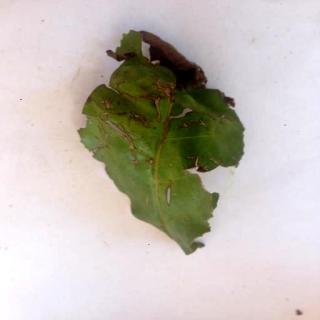Brown Blight: (77, 32, 246, 256)
